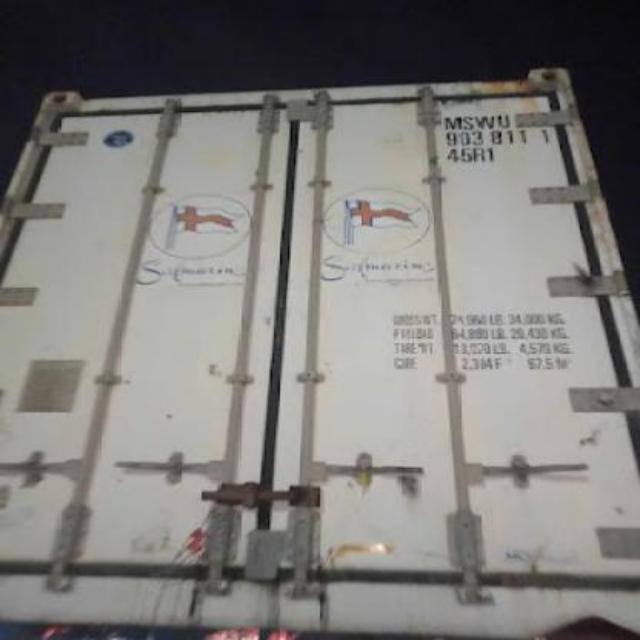0: (458, 127, 470, 145)
1: (538, 122, 550, 148), (506, 128, 518, 148), (518, 129, 532, 145)
3: (471, 125, 484, 148)
8: (491, 124, 504, 146)
9: (444, 125, 456, 145)
M: (444, 113, 462, 131)
S: (462, 110, 476, 132)
U: (494, 108, 518, 126)
W: (472, 108, 496, 126)
